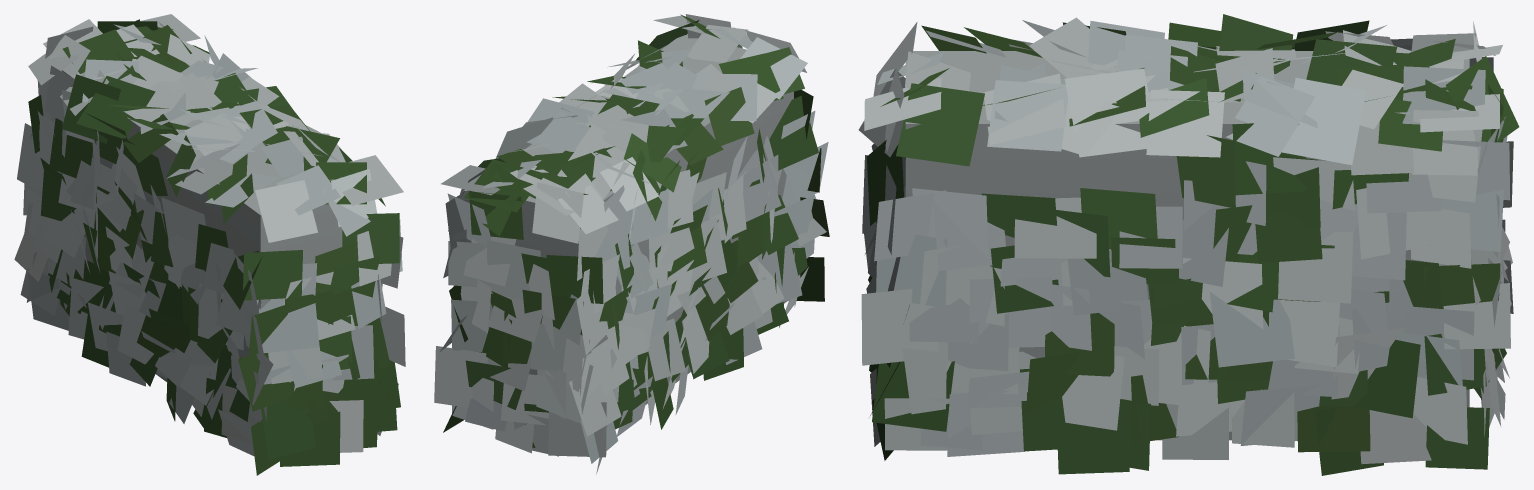
The model's file is hedge.yew.snow.glb.
3 views of the same model, side by side, from view 1: azimuth 30°, elevation 25°; view 2: azimuth 150°, elevation 25°; view 3: azimuth 270°, elevation 25° (orthographic). The views are drawn at different scales.
Parts seen in each view (by area): view 1: hedge_yew_snow; view 2: hedge_yew_snow; view 3: hedge_yew_snow.
Boxes of the visible parts, <box> form: hedge_yew_snow: <box>14,14,405,475</box>; hedge_yew_snow: <box>434,14,829,473</box>; hedge_yew_snow: <box>858,14,1519,475</box>.
Size of what is drawn, in the model's own units: 1.66 by 2.59 by 4.05.
